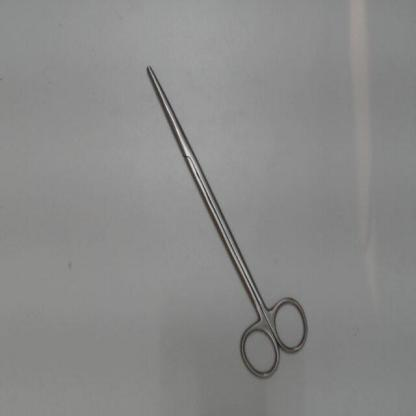9 Metzenbaum Scissors: (145, 64, 315, 387)
